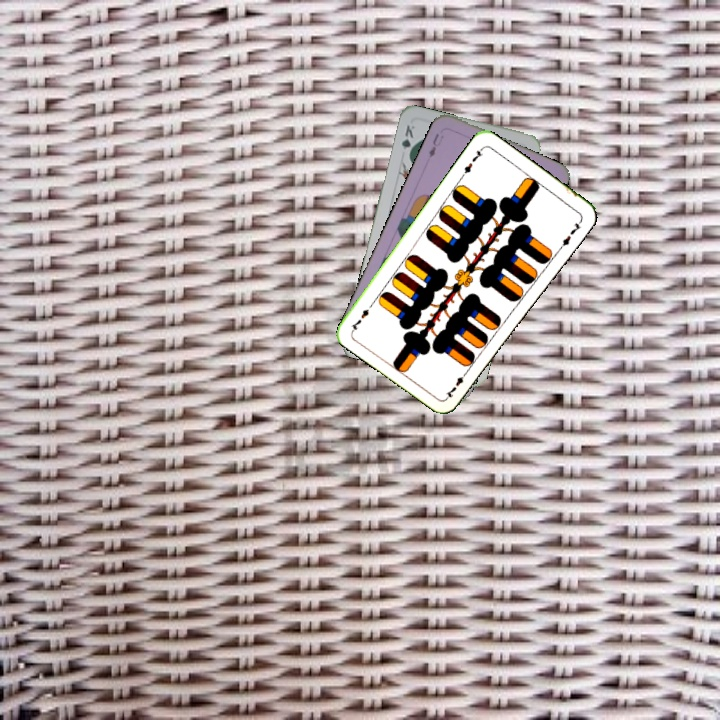E7: (442, 366, 471, 401), (458, 144, 486, 179)
EU: (423, 129, 446, 164)
GK: (397, 121, 417, 161)
